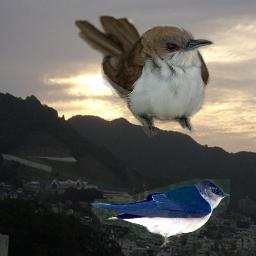Cuckoo: (74, 14, 215, 140)
Swallow: (90, 179, 230, 248)
